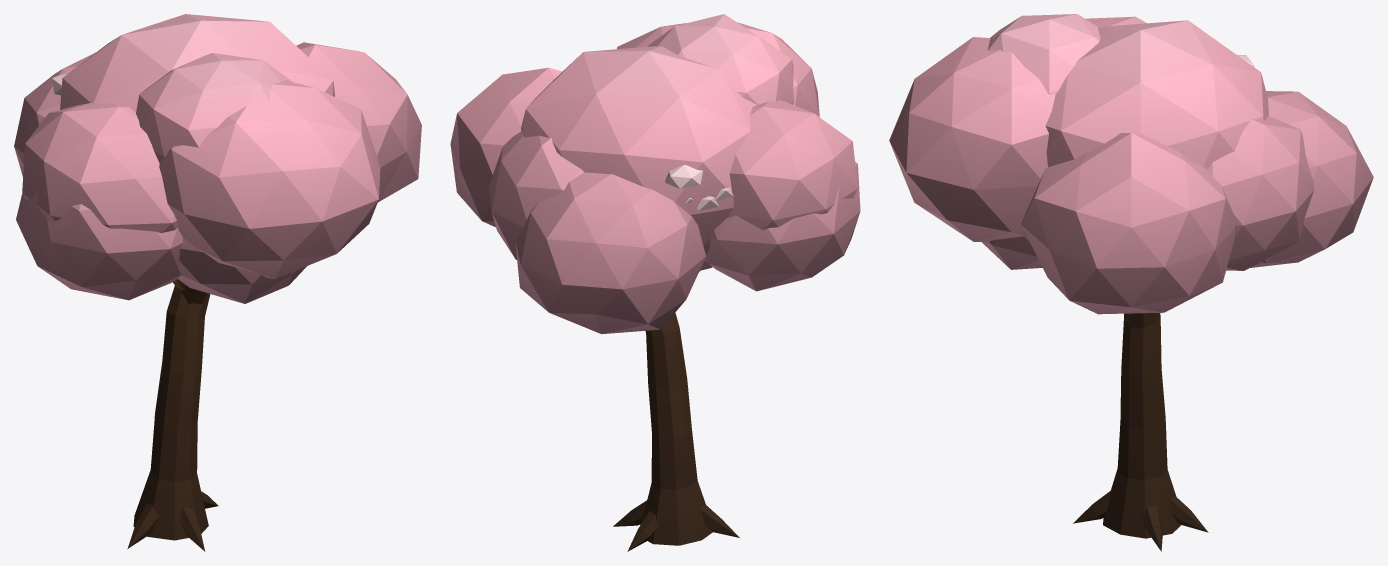
The model's file is tree_cherry_02.fbx.
3 views of the same model, side by side, from view 1: azimuth 30°, elevation 25°; view 2: azimuth 150°, elevation 25°; view 3: azimuth 270°, elevation 25° (orthographic). The views are drawn at different scales.
Visible parts, largest first — view 1: tree_cherry_02_LOD0; view 2: tree_cherry_02_LOD0; view 3: tree_cherry_02_LOD0.
Boxes of the visible parts, x1,y1,x2,y2 form: tree_cherry_02_LOD0: (14,14,421,551); tree_cherry_02_LOD0: (450,14,860,551); tree_cherry_02_LOD0: (889,14,1373,551).
Size of what is drawn, in the model's own units: 3.68 by 4.51 by 3.9.
Materials: 1 (1 with a texture image).
